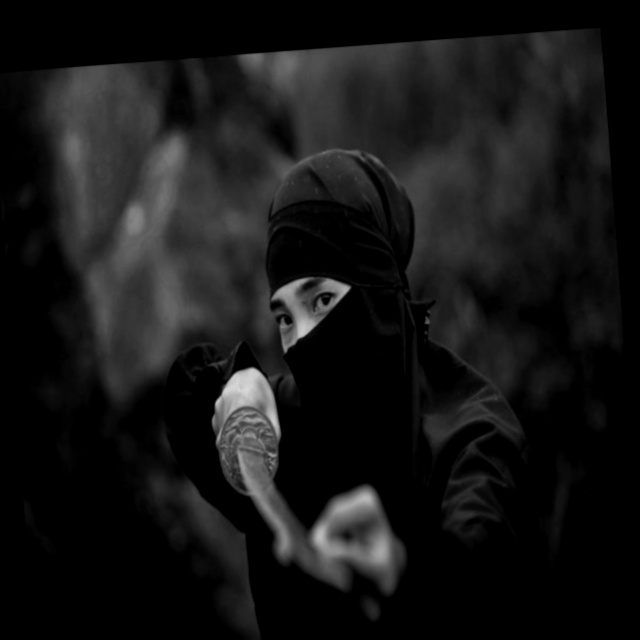Sharp-Object: (206, 392, 349, 613)
